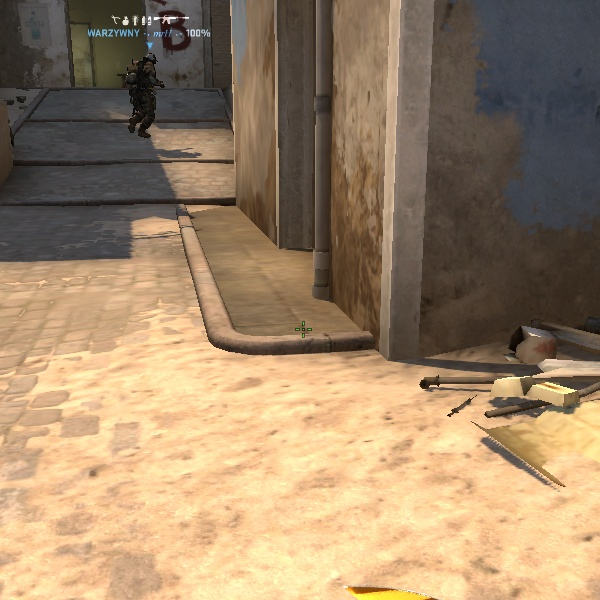ct_body: (114, 47, 165, 140)
ct_head: (142, 50, 161, 70)
